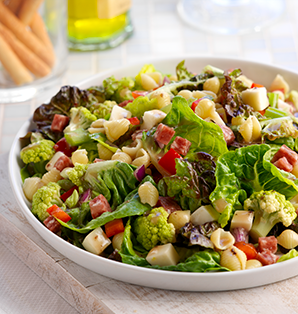chopped lettuce: (70, 99, 293, 248)
